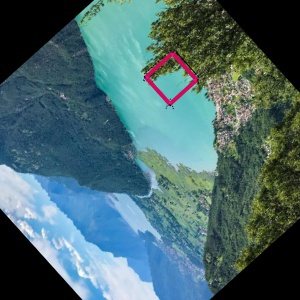square: (142, 50, 200, 107)
